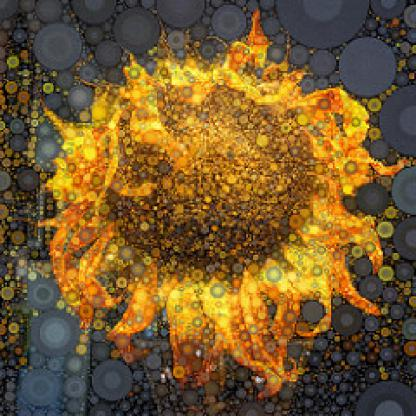SUN FLOWER: (32, 26, 400, 402)
